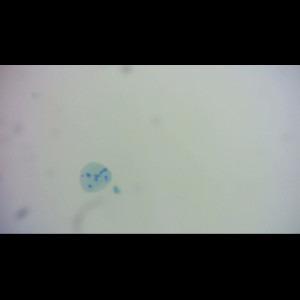aggregate reticulocyte: (78, 160, 114, 194)
